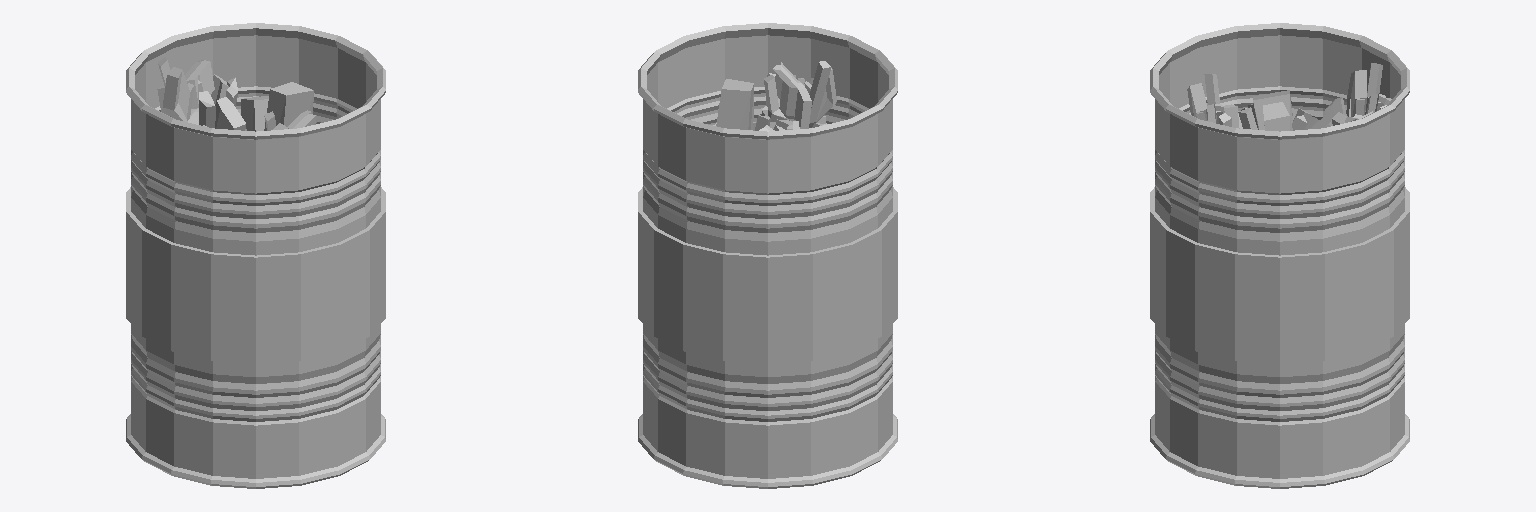
The model's file is Oil Tank-1.obj.
3 views of the same model, side by side, from view 1: azimuth 30°, elevation 25°; view 2: azimuth 150°, elevation 25°; view 3: azimuth 270°, elevation 25° (orthographic).
Parts seen in each view (by area): view 1: Cylinder001, Cylinder004, OilTank001, Box001; view 2: Cylinder001, Cylinder004, OilTank001, Box001; view 3: Cylinder001, Cylinder004, OilTank001, GeoSphere003, Box001, Box002.
Boxes of the visible parts, box(x1,y1,x2,y2) form: Cylinder001: box(126, 23, 385, 488); Cylinder004: box(126, 187, 385, 363); OilTank001: box(157, 57, 316, 130); Box001: box(241, 82, 313, 131); Cylinder001: box(638, 23, 897, 488); Cylinder004: box(638, 187, 897, 363); OilTank001: box(759, 61, 836, 131); Box001: box(716, 79, 753, 129); Cylinder001: box(1150, 23, 1409, 488); Cylinder004: box(1150, 187, 1409, 363); OilTank001: box(1187, 63, 1391, 128); GeoSphere003: box(1238, 104, 1318, 130); Box001: box(1263, 102, 1292, 131); Box002: box(1253, 90, 1292, 129).
Size of the model in its own units: 57.74 by 86.04 by 56.81.